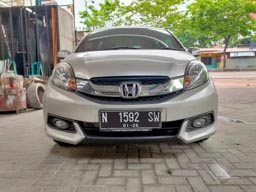plat: (98, 110, 160, 122)
